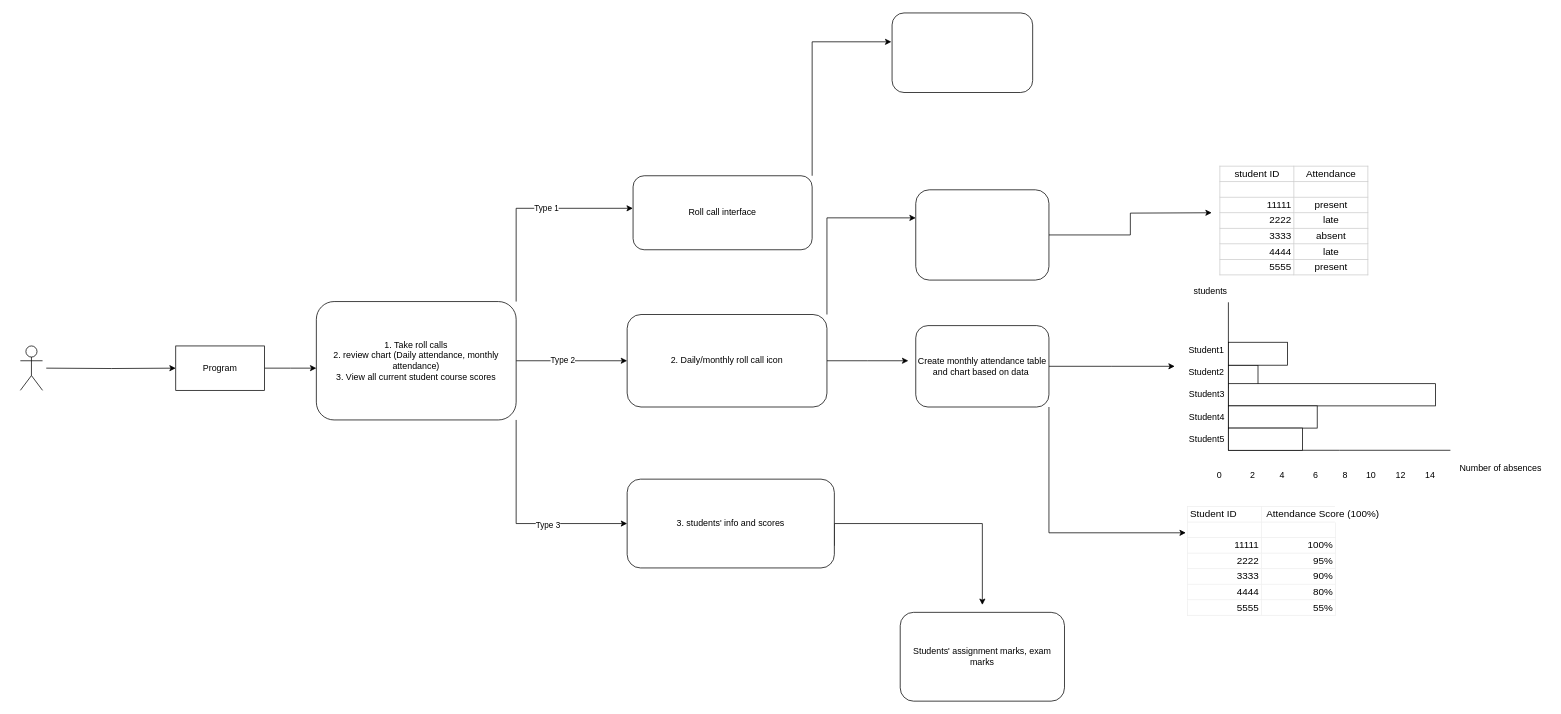
Image size: 1561x714. Some labels were removed from this diagram. The box of each missing label's shape, as (x1, y1, x2, y2) in pixels:
Create daily attendance table based on data: (915, 189, 1049, 280)
Professor: (20, 345, 43, 390)
Start taking attendence: (891, 12, 1033, 92)
